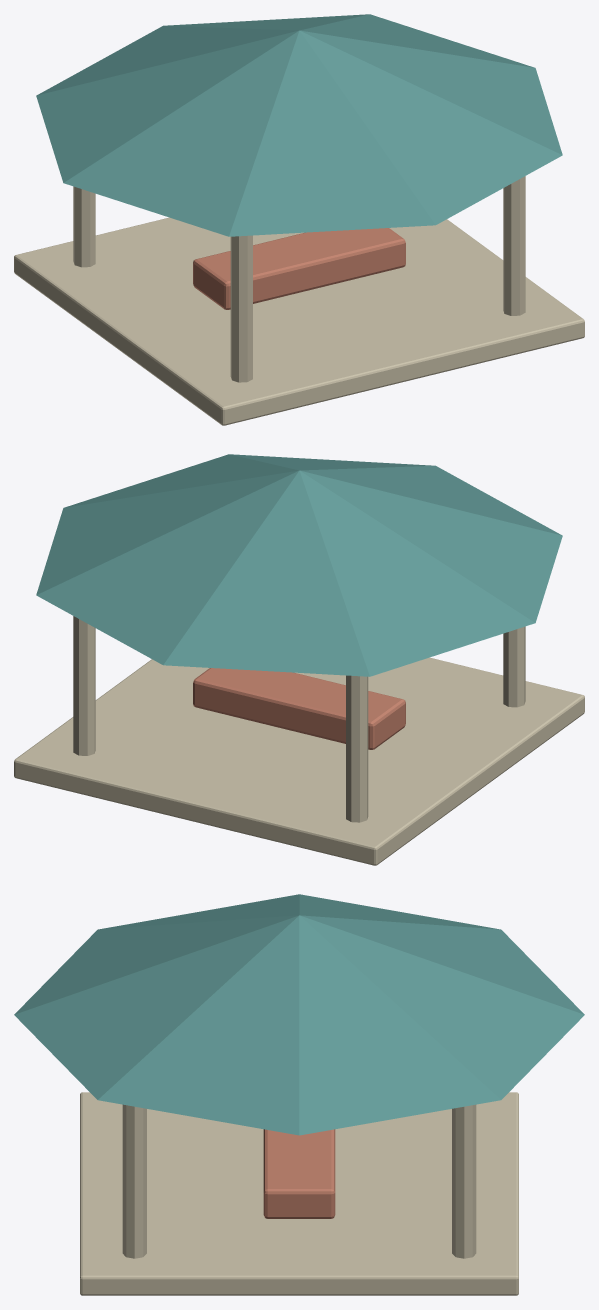
Rendered from prop_pavilion.glb.
The picture shows the model from 3 angles, top to bottom: view 1: azimuth 30°, elevation 25°; view 2: azimuth 150°, elevation 25°; view 3: azimuth 270°, elevation 25°; orthographic projection. The views are drawn at different scales.
Visible parts, largest first — view 1: scenery_teal, scenery_cream, scenery_coral; view 2: scenery_teal, scenery_cream, scenery_coral; view 3: scenery_teal, scenery_cream, scenery_coral.
Part boxes in pixels (left/top/right/bottom): scenery_teal: left=36, top=14, right=562, bottom=236; scenery_cream: left=14, top=176, right=584, bottom=425; scenery_coral: left=193, top=228, right=405, bottom=309; scenery_teal: left=36, top=454, right=562, bottom=676; scenery_cream: left=14, top=616, right=584, bottom=865; scenery_coral: left=193, top=668, right=405, bottom=749; scenery_teal: left=14, top=894, right=584, bottom=1135; scenery_cream: left=80, top=1092, right=518, bottom=1295; scenery_coral: left=263, top=1129, right=335, bottom=1218.
Size of the model in its own units: 10.4 by 5.8 by 10.4.
